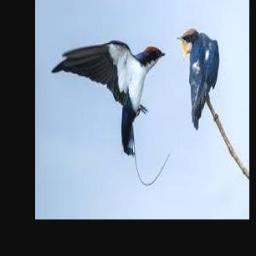Swallow: (52, 39, 166, 155), (177, 27, 219, 129)
